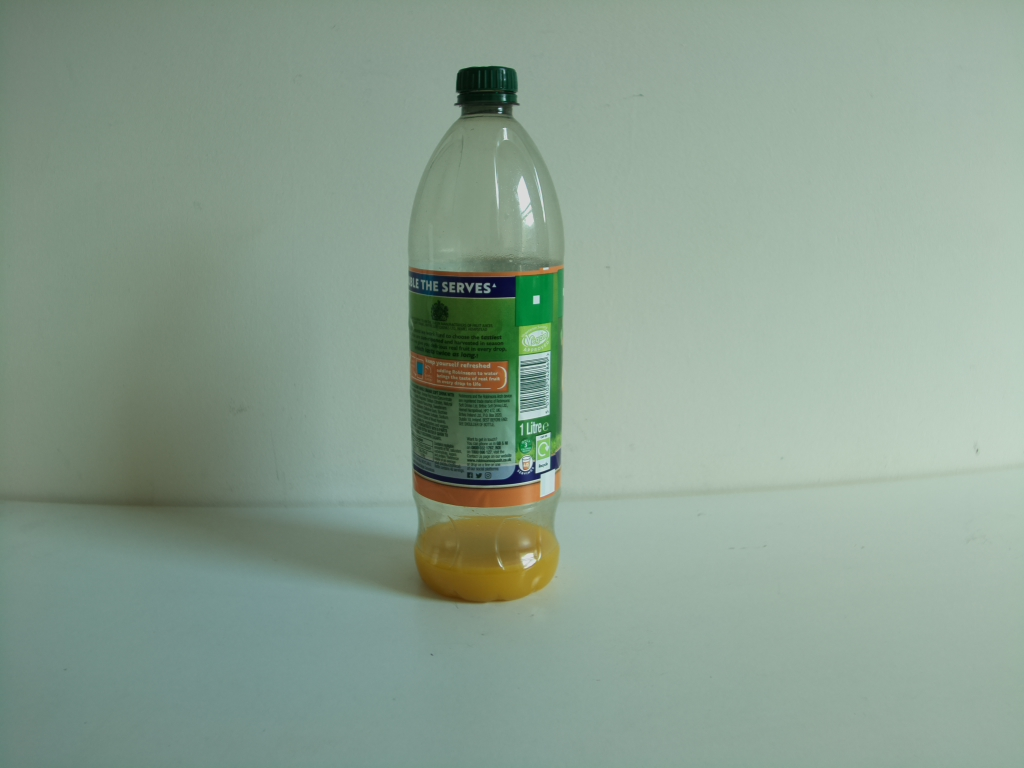juice: (398, 61, 573, 610)
